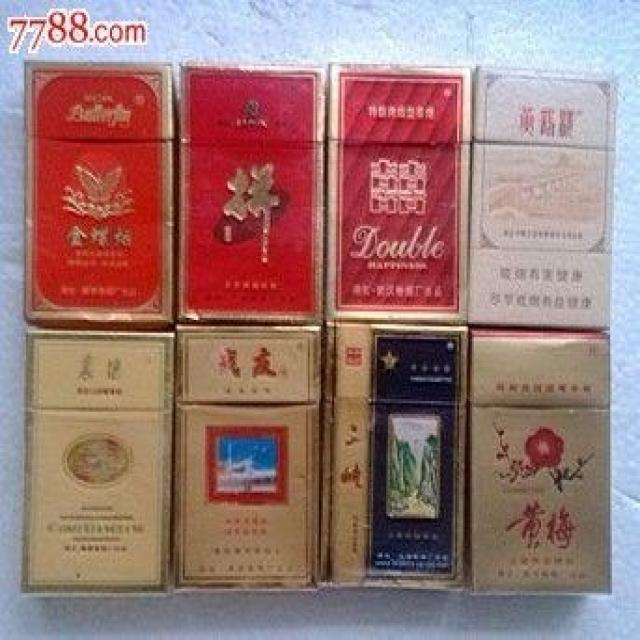box: (315, 320, 474, 595), (19, 324, 175, 597), (174, 324, 327, 595), (22, 62, 177, 324), (177, 62, 327, 326), (468, 68, 618, 329), (323, 64, 472, 324), (466, 331, 612, 595)
